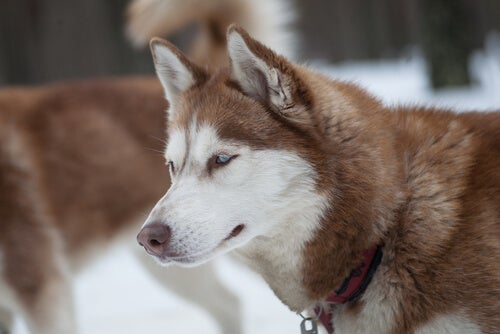husky: (123, 27, 441, 315)
